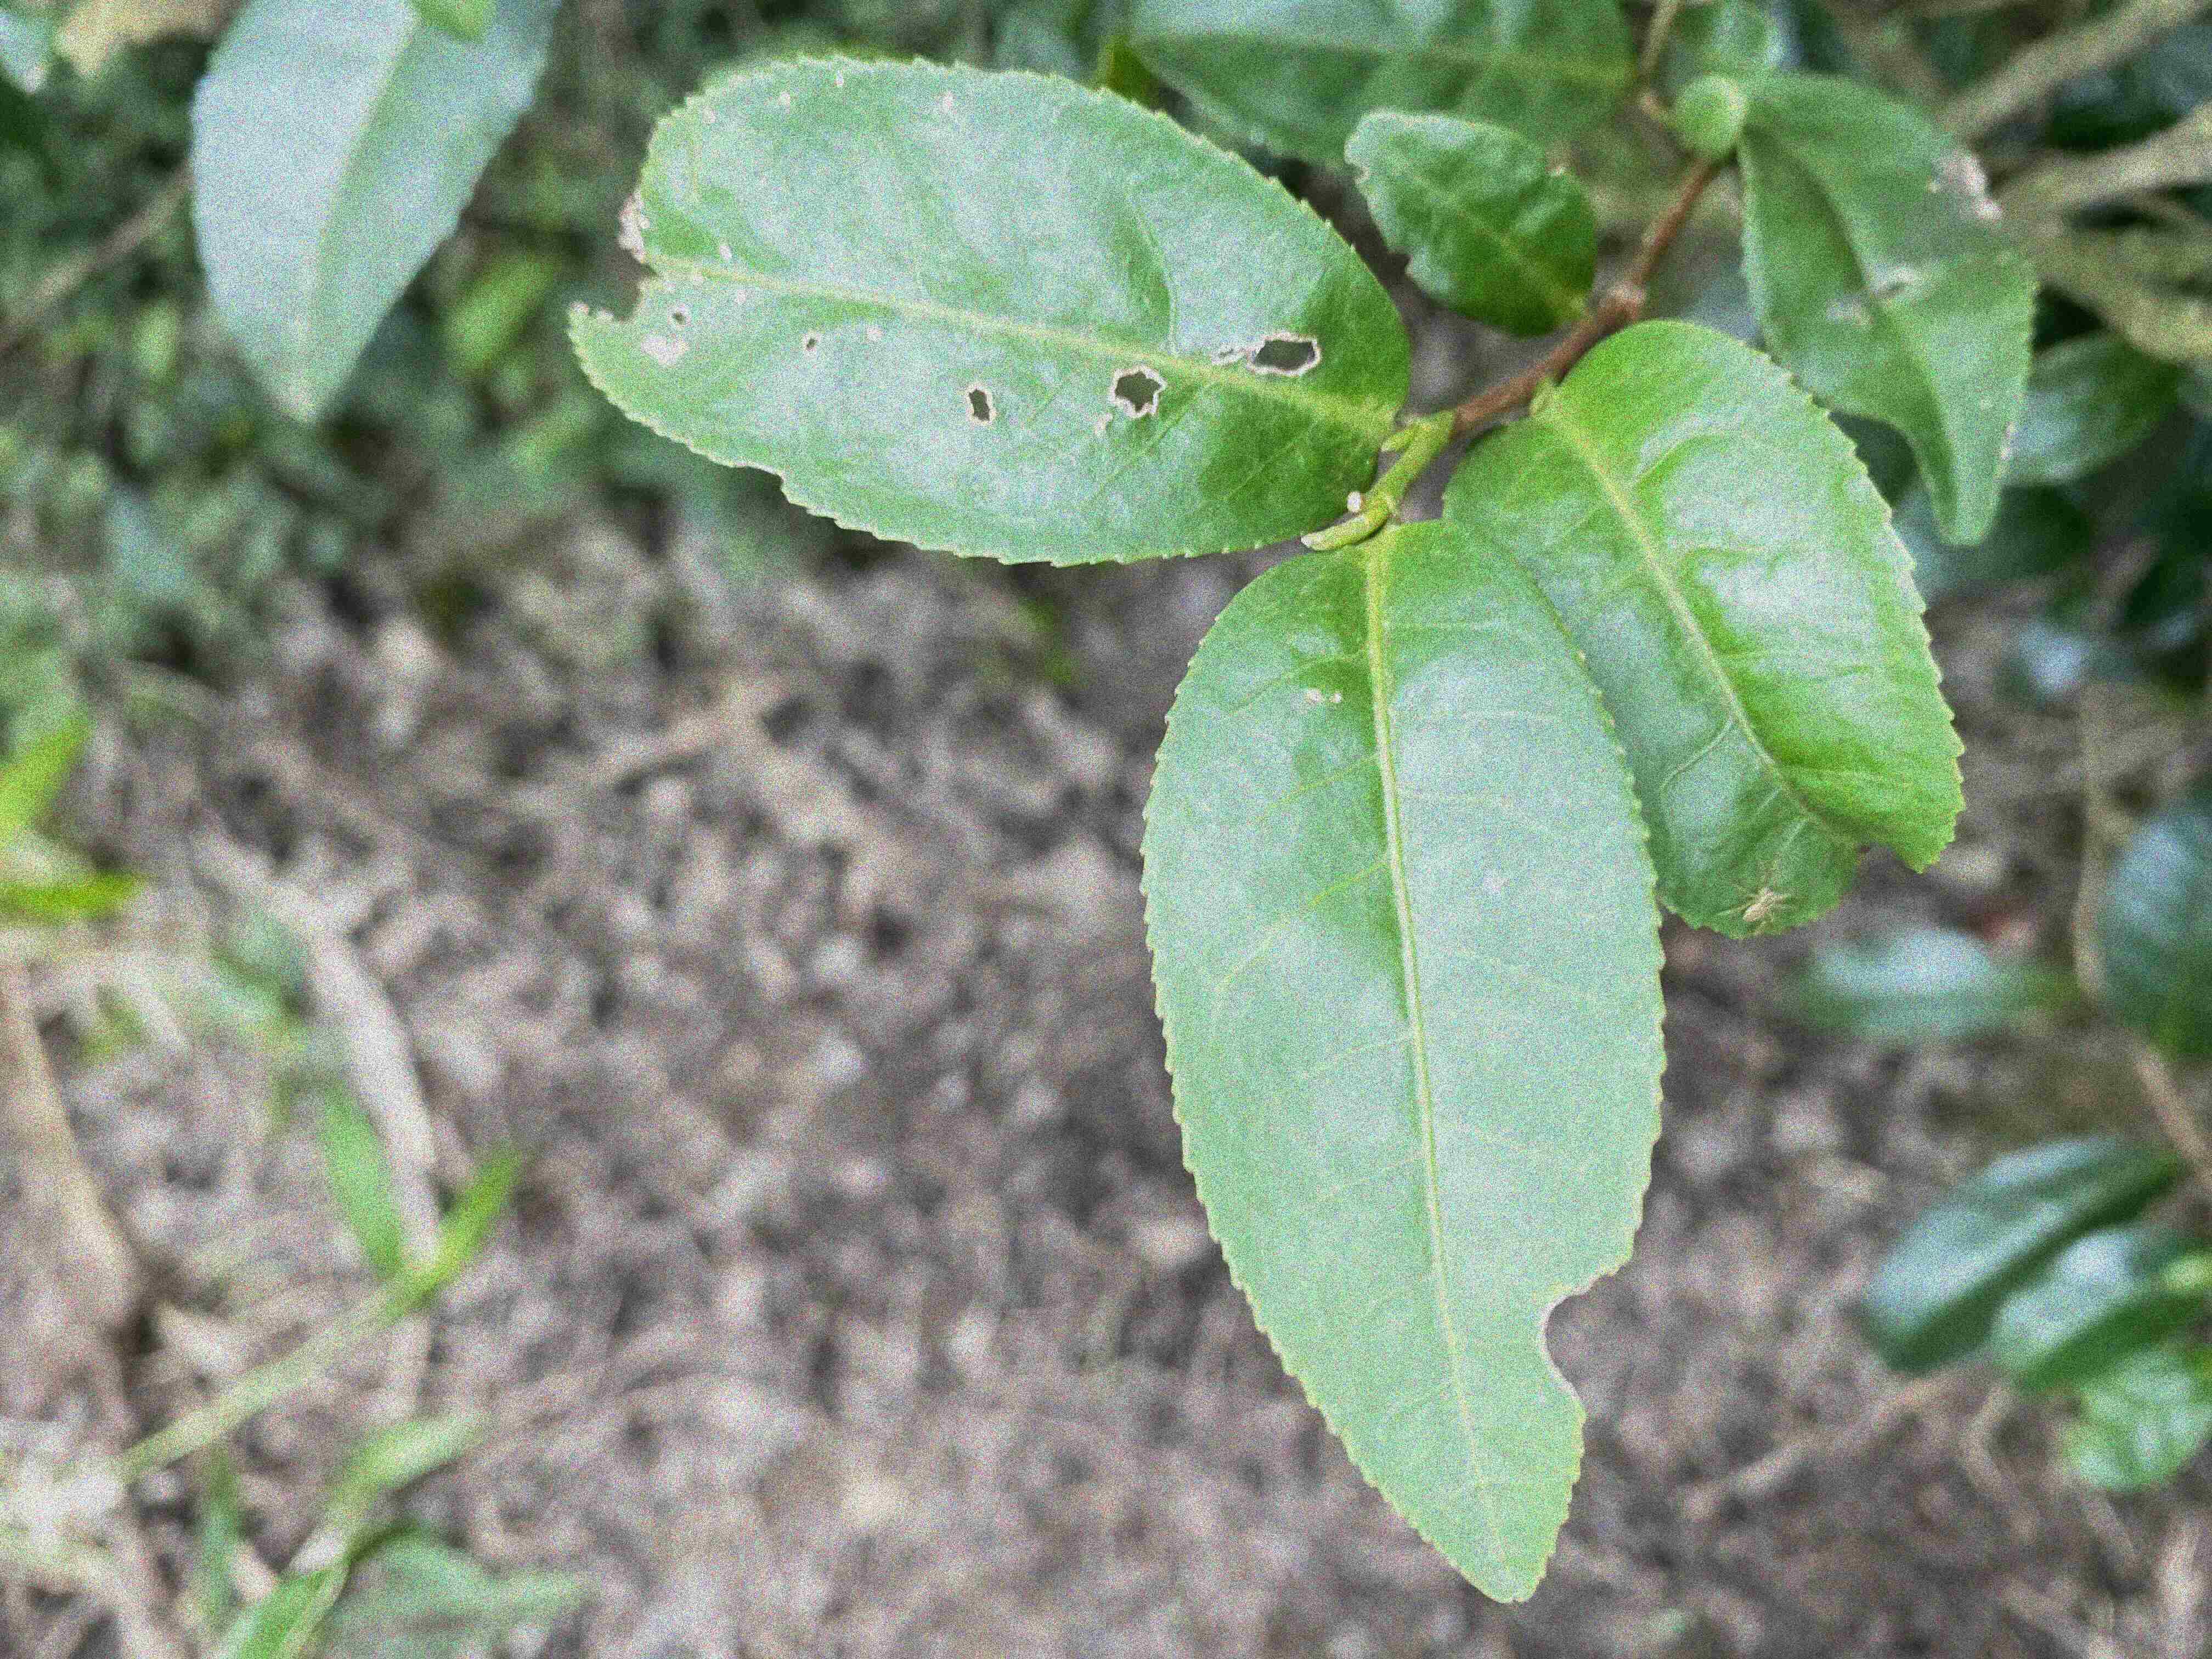chihuo_high: (566, 47, 1418, 570), (1341, 115, 1601, 335)
chihuo_low: (1139, 518, 1669, 1607)
healthy: (1442, 317, 1972, 934)
